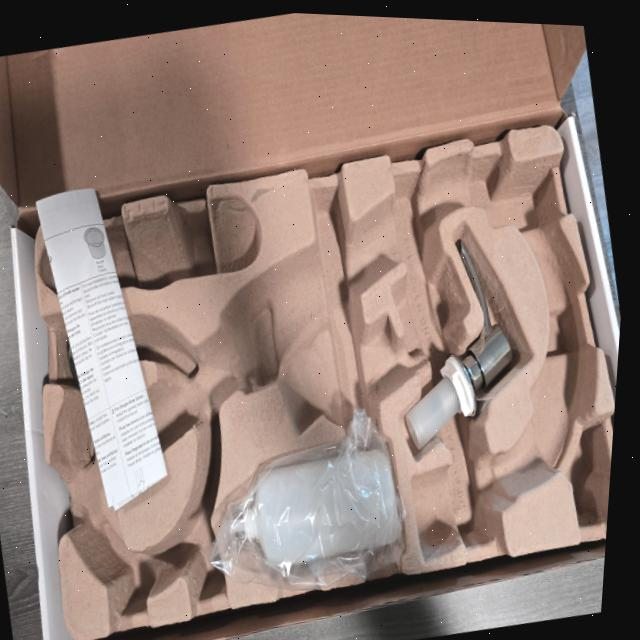1m: (45, 159, 595, 554)
2: (406, 238, 516, 451)
3: (227, 448, 405, 570)
4m: (37, 193, 261, 299)
5o: (67, 318, 120, 388)
6m: (86, 514, 159, 613)
7m: (155, 462, 226, 591)
8: (35, 188, 169, 512)
